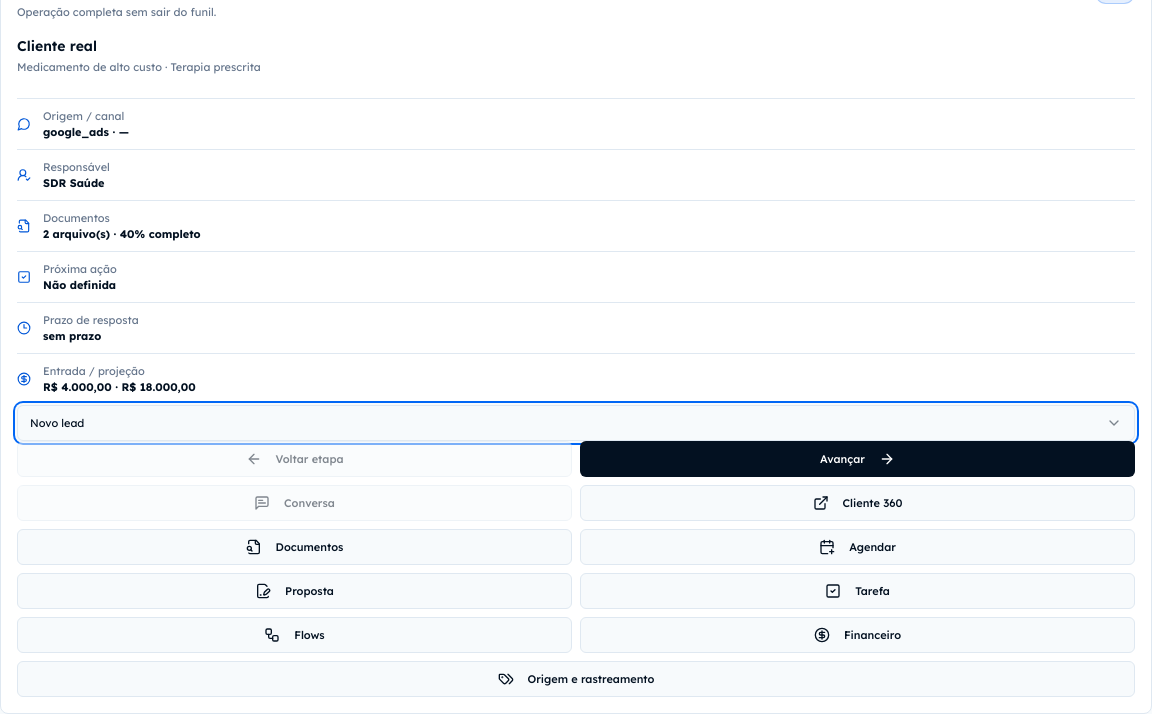
Scenario: KLM page interactions › persists a funnel stage change through the versioned backend command
The image size is (1152, 714).
(page scrolled)
Press ArrowDown in the dropdown named "Mover lead para etapa", box [17,405,1135,441]
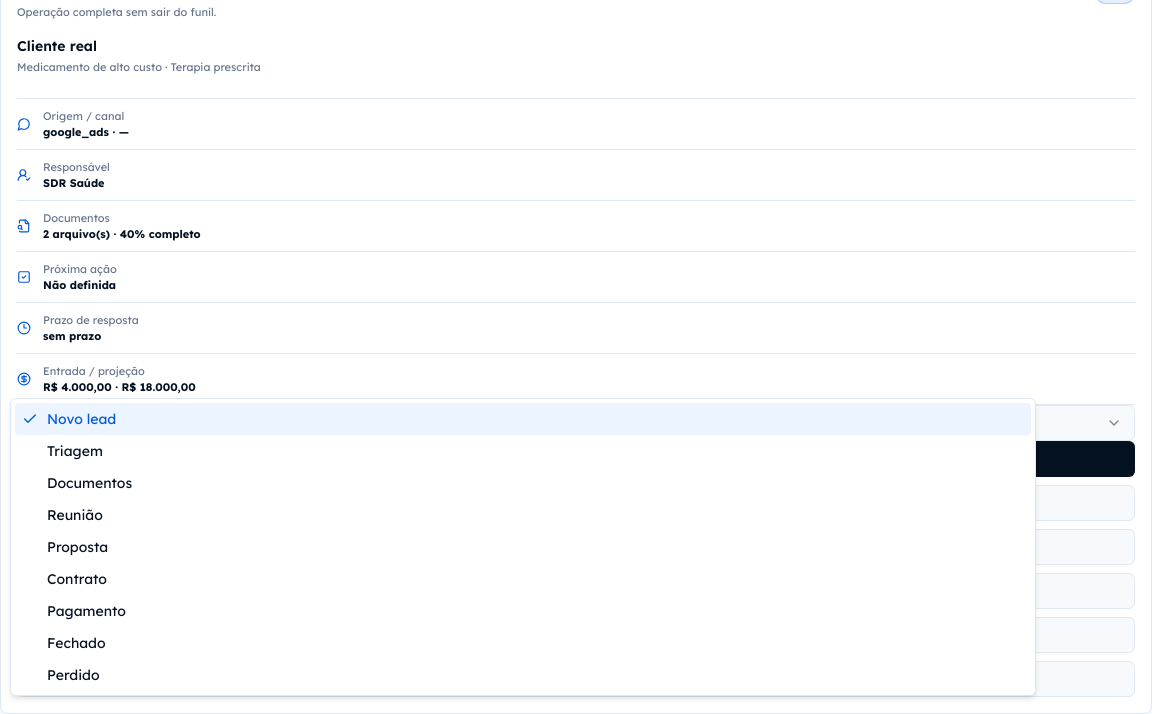
Click the option "Triagem" at (75, 451), box [47,442,103,460]
(page scrolled)
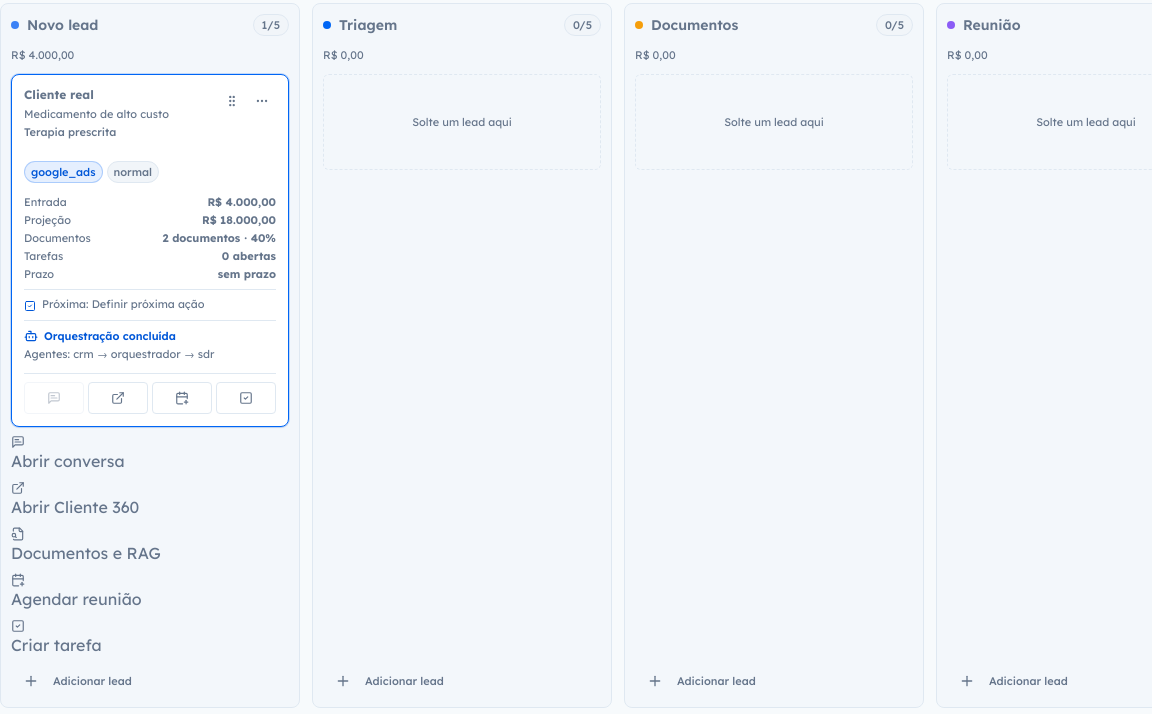
Expected: the text "Orquestração concluída" is shown, [44,329,176,343]
Expected: the text "Agentes: crm → orquestrador → sdr" is shown, [24,347,214,361]
